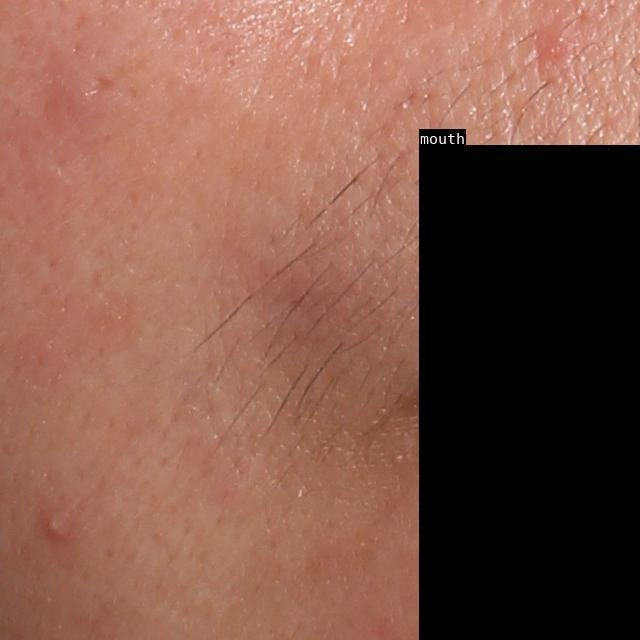atrophic_scar: (88, 73, 119, 97)
papule: (40, 513, 70, 538)
